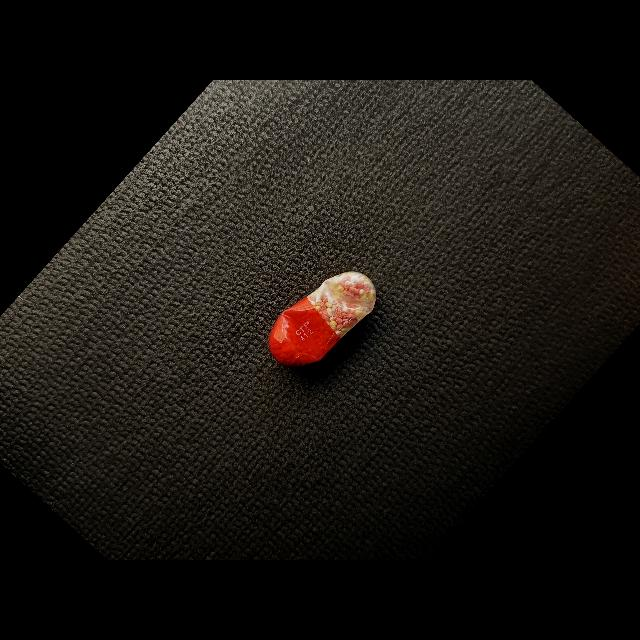Defective Capsule: (269, 271, 376, 367)
